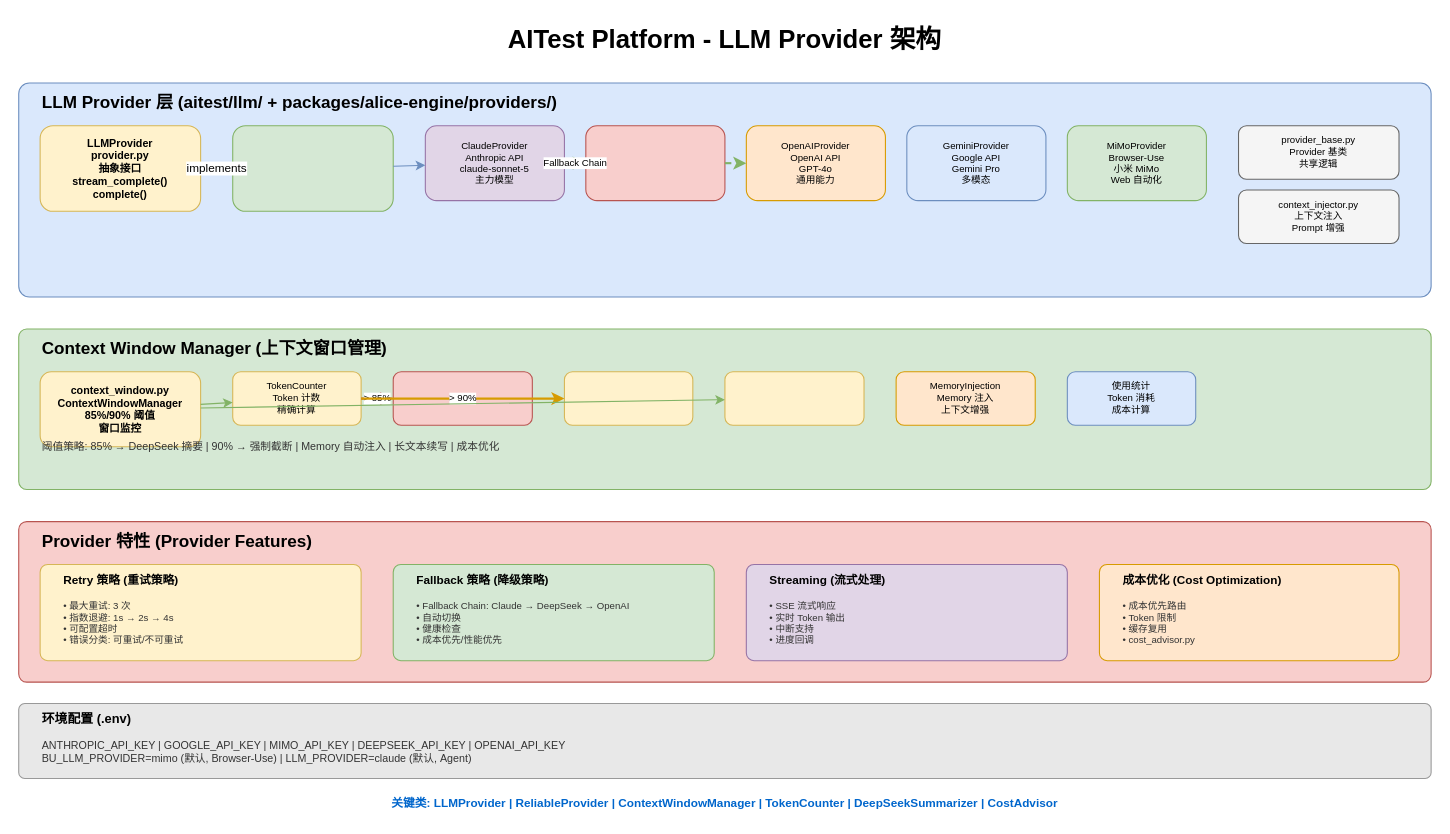
The diagram is 1450 pixels wide and 834 high, and some of its shapes have lost their labels. Each missing label, with the box of its shape:
ContextTruncator 上下文截断 智能裁剪: (563, 371, 693, 425)
ContinuationHandler 续写处理 长文本分段: (724, 371, 864, 425)
DeepSeekProvider DeepSeek API DeepSeek-V2 成本优化: (585, 125, 725, 201)
DeepSeekSummarizer 上下文摘要 DeepSeek 专用: (392, 371, 532, 425)
ReliableProvider reliable_provider.py Retry (3x) Fallback Chain 错误恢复: (232, 125, 393, 211)
